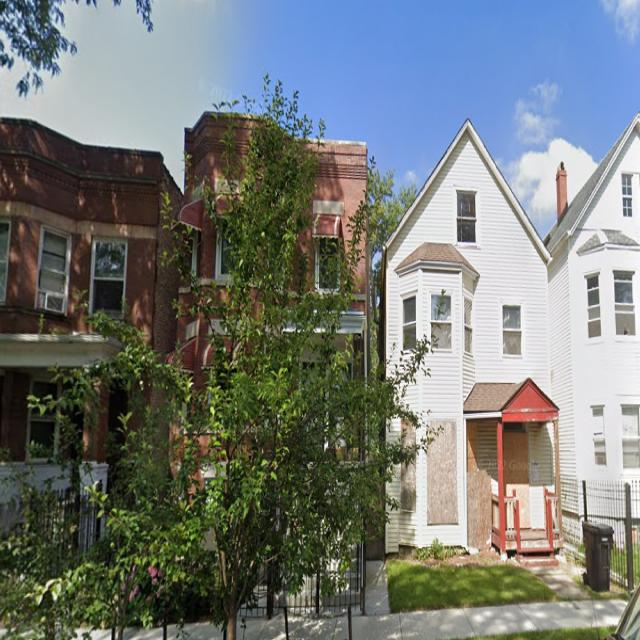House: (0, 116, 184, 589), (186, 110, 371, 565), (384, 120, 561, 562), (541, 111, 640, 558)
